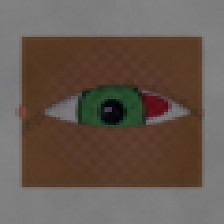hemorrhage_spot: (91, 70, 183, 143)
